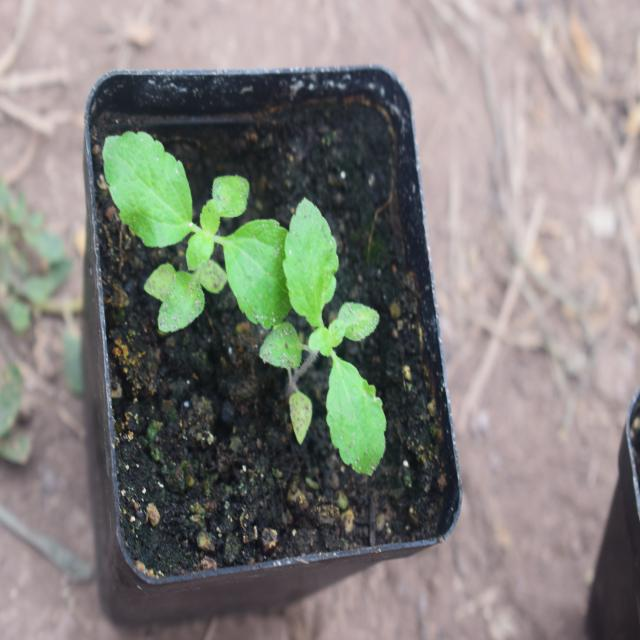billygoat_weed: (100, 113, 284, 360), (268, 196, 408, 482)
